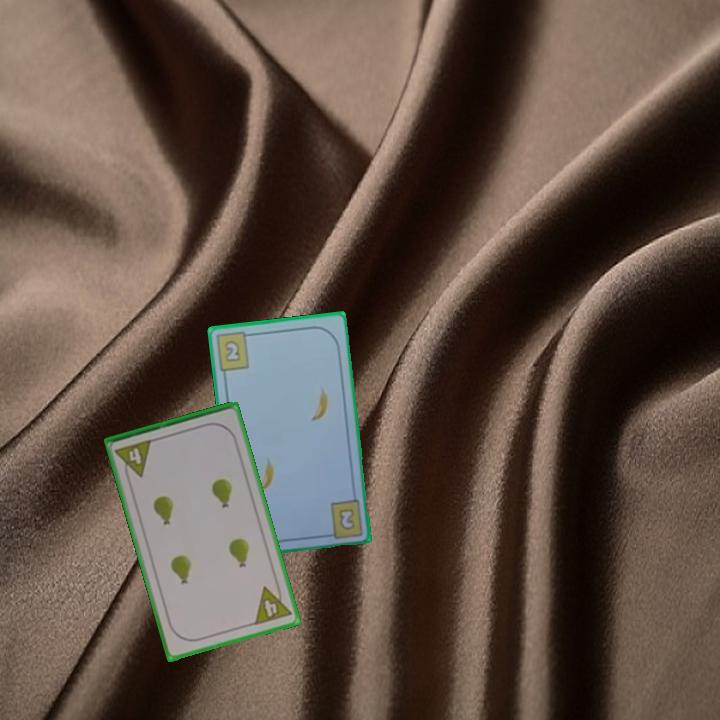2b: (212, 329, 257, 374), (335, 505, 358, 533)
4p: (251, 580, 294, 628), (112, 436, 155, 483)
